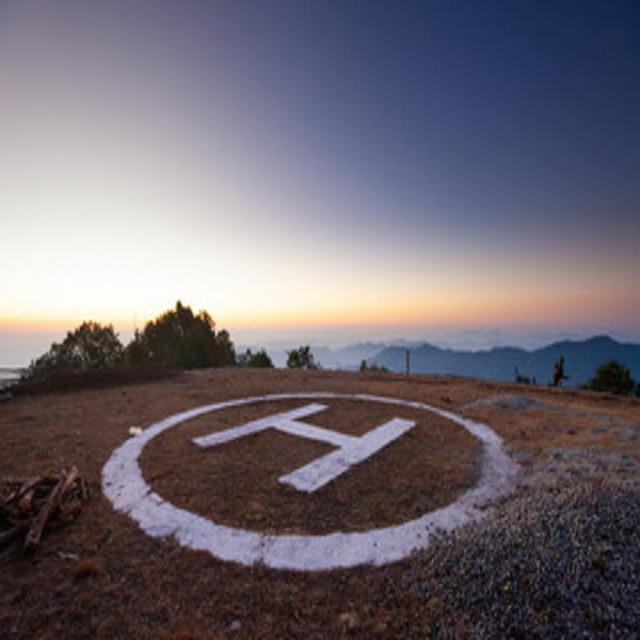helipad: (98, 391, 526, 571)
